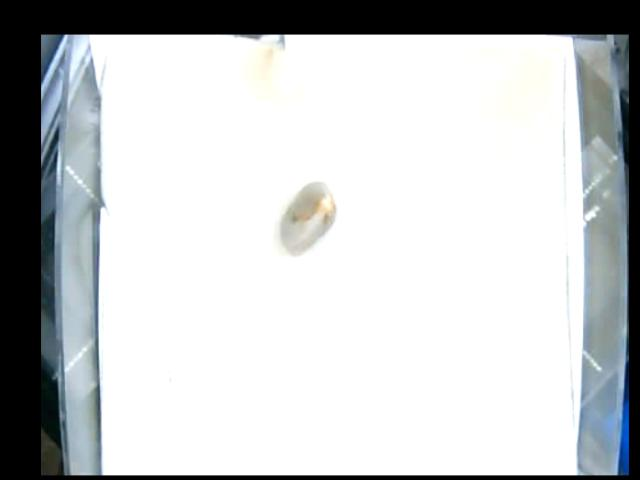Pebble: (278, 181, 337, 259)
